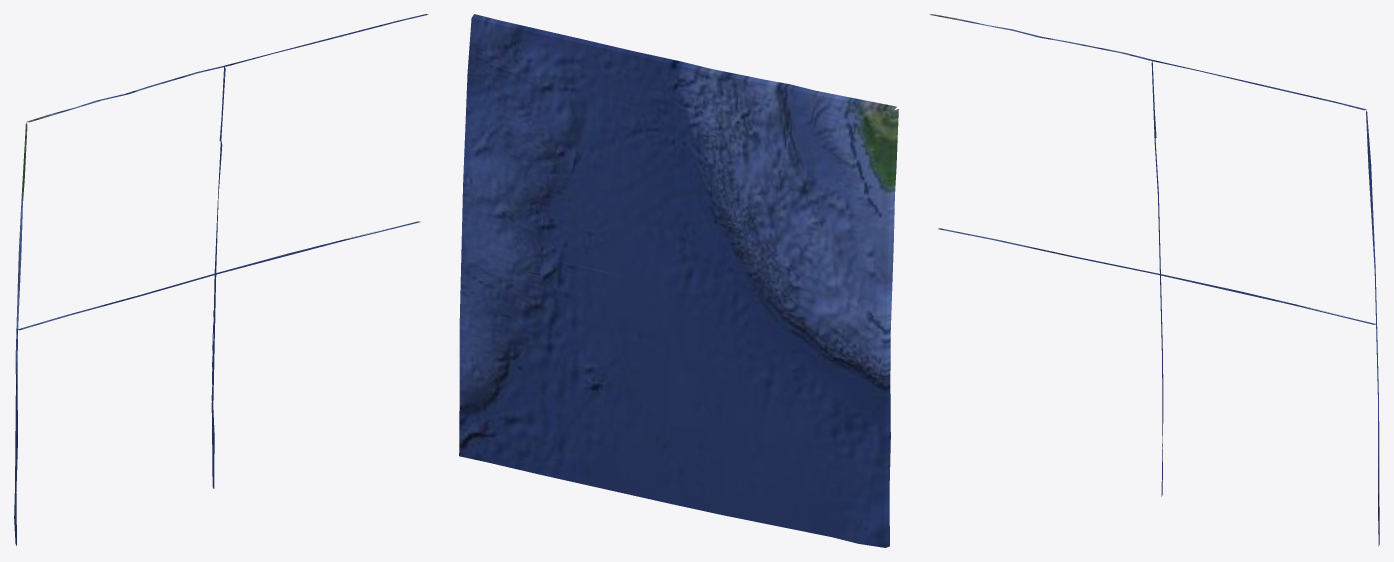
3 renders of one model, left to right at view 1: azimuth 30°, elevation 25°; view 2: azimuth 150°, elevation 25°; view 3: azimuth 330°, elevation 25°, orthographic. The views are drawn at different scales.
Bounding box in the file's own units: 632518 × 628438 × 66654.
Materials: 1 (1 with a texture image).
